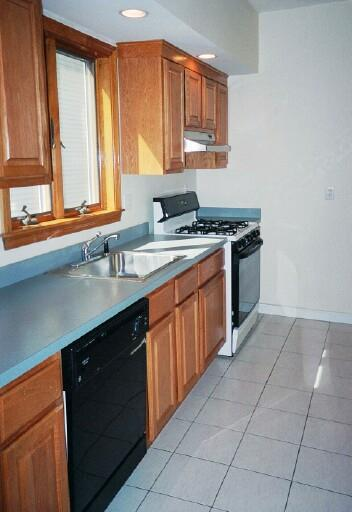Electrodomestico: (60, 300, 149, 511), (152, 188, 261, 351)
Lavaplatos: (62, 237, 189, 284)
Ventana: (16, 61, 104, 232)
